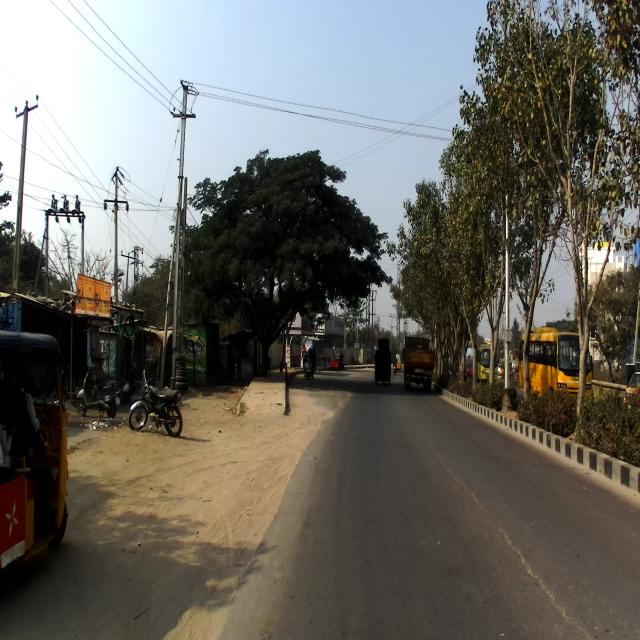auto ahead at: (0, 328, 74, 570)
electric pole ahead at: (162, 68, 205, 396)
motorcycle ahead at: (127, 366, 181, 445)
